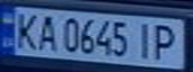0: (57, 15, 81, 54)
4: (93, 17, 115, 56)
5: (109, 18, 133, 58)
6: (78, 16, 96, 55)
A: (33, 11, 60, 52)
I: (130, 20, 157, 60)
K: (9, 9, 42, 51)
P: (148, 20, 184, 62)
